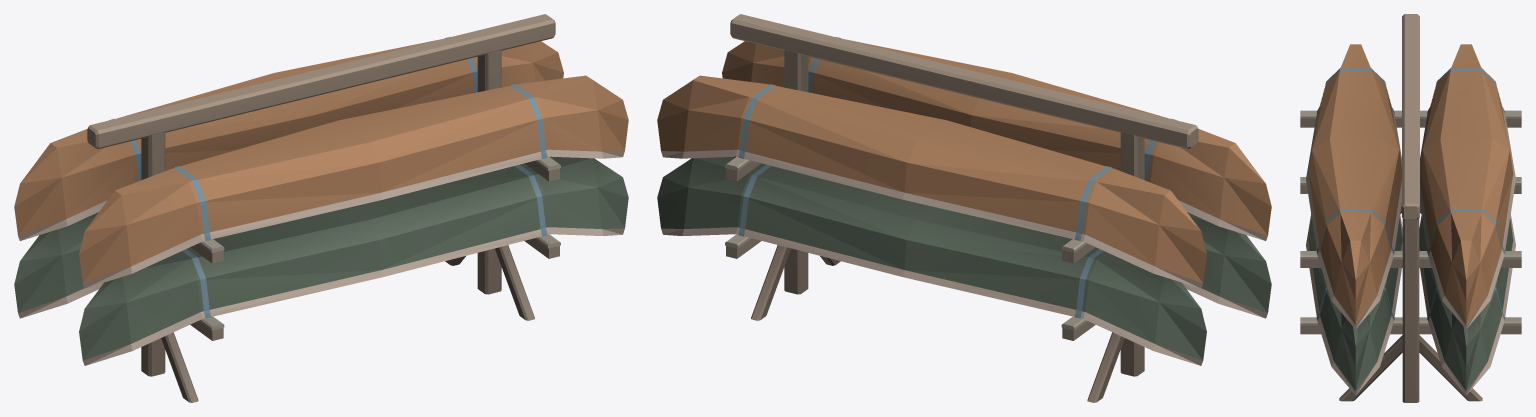
Rendered from rack.glb.
3 views of the same model, side by side, from view 1: azimuth 30°, elevation 25°; view 2: azimuth 150°, elevation 25°; view 3: azimuth 270°, elevation 25° (orthographic). The views are drawn at different scales.
Parts seen in each view (by area): view 1: rack.001; view 2: rack.001; view 3: rack.001.
Boxes of the visible parts, left/top/right/bottom form: rack.001: left=14, top=14, right=628, bottom=402; rack.001: left=657, top=14, right=1271, bottom=402; rack.001: left=1300, top=14, right=1521, bottom=402.
Size of the model in its own units: 5.88 by 2.64 by 2.4.
